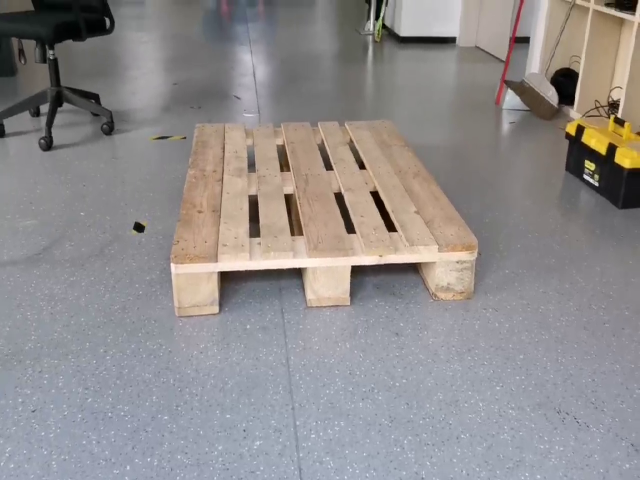block: (175, 264, 220, 316), (433, 250, 479, 300), (306, 258, 351, 308)
front: (172, 249, 479, 316)
hole pallet: (221, 268, 307, 313), (350, 262, 435, 303)
